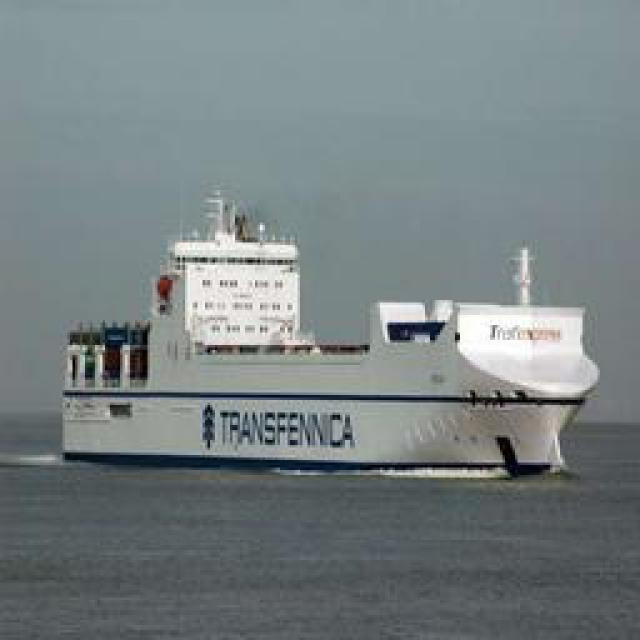Ship: (55, 180, 598, 470)
